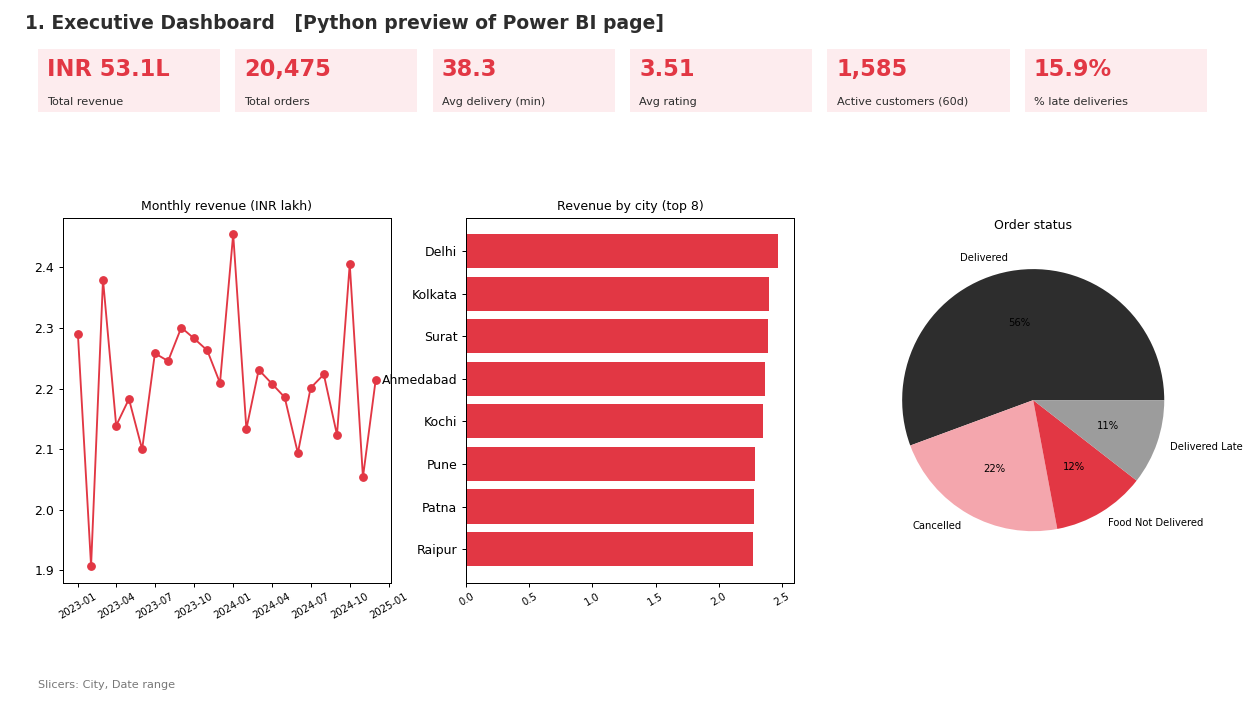

The dashboard page shown, as its layout file describes it:
{"tool":"powerbi","page":{"name":"1. Executive Dashboard","canvas":[1280,720],"ordinal":0},"visuals":[{"type":"textbox","box":[20,8,820,38],"z":1000},{"type":"slicer","fields":{"Values":["dim_city.City"]},"box":[860,8,180,52],"z":2000},{"type":"slicer","fields":{"Values":["dim_date.Date"]},"box":[1050,8,210,52],"z":3000},{"type":"card","fields":{"Values":["fact_orders.Total Revenue"]},"box":[20,70,146.2,88],"z":4000},{"type":"card","fields":{"Values":["fact_orders.Total Orders"]},"box":[176.2,70,146.2,88],"z":5000},{"type":"card","fields":{"Values":["fact_orders.Avg Delivery Time"]},"box":[332.5,70,146.2,88],"z":6000},{"type":"card","fields":{"Values":["fact_orders.Avg Rating"]},"box":[488.8,70,146.2,88],"z":7000},{"type":"card","fields":{"Values":["fact_orders.Active Customers"]},"box":[645,70,146.2,88],"z":8000},{"type":"card","fields":{"Values":["fact_orders.Late %"]},"box":[801.2,70,146.2,88],"z":9000},{"type":"card","fields":{"Values":["fact_orders.Failure %"]},"box":[957.5,70,146.2,88],"z":10000},{"type":"card","fields":{"Values":["fact_orders.P90 Delivery Time"]},"box":[1113.8,70,146.2,88],"z":11000},{"type":"lineChart","title":"Monthly revenue (INR)","fields":{"Category":["dim_date.MonthStart"],"Y":["fact_orders.Total Revenue"]},"box":[20,175,610,250],"z":12000},{"type":"clusteredBarChart","title":"Revenue by city (INR)","fields":{"Category":["dim_city.City"],"Y":["fact_orders.Total Revenue"]},"box":[650,175,610,525],"z":13000},{"type":"donutChart","title":"Orders by status","fields":{"Category":["fact_orders.OrderStatus"],"Y":["fact_orders.Total Orders"]},"box":[20,440,610,260],"z":14000}]}

Visuals, with their boxes in screenshot pixels (x1, y1, x2, y2), scaled from the page's 1280x720 canvas onto the 1260x702 screenshot:
textbox: <box>20,8,827,45</box>
slicer - dim_city.City: <box>847,8,1024,58</box>
slicer - dim_date.Date: <box>1034,8,1240,58</box>
card - fact_orders.Total Revenue: <box>20,68,164,154</box>
card - fact_orders.Total Orders: <box>173,68,317,154</box>
card - fact_orders.Avg Delivery Time: <box>327,68,471,154</box>
card - fact_orders.Avg Rating: <box>481,68,625,154</box>
card - fact_orders.Active Customers: <box>635,68,779,154</box>
card - fact_orders.Late %: <box>789,68,933,154</box>
card - fact_orders.Failure %: <box>943,68,1086,154</box>
card - fact_orders.P90 Delivery Time: <box>1096,68,1240,154</box>
"Monthly revenue (INR)" lineChart: <box>20,171,620,414</box>
"Revenue by city (INR)" clusteredBarChart: <box>640,171,1240,682</box>
"Orders by status" donutChart: <box>20,429,620,682</box>
